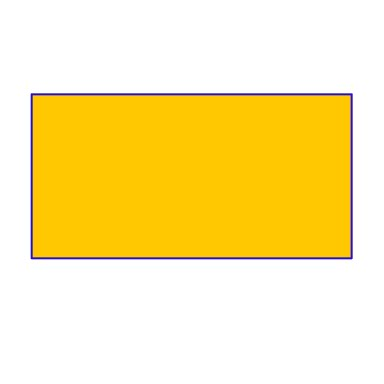rectangulo: (30, 93, 354, 261)
